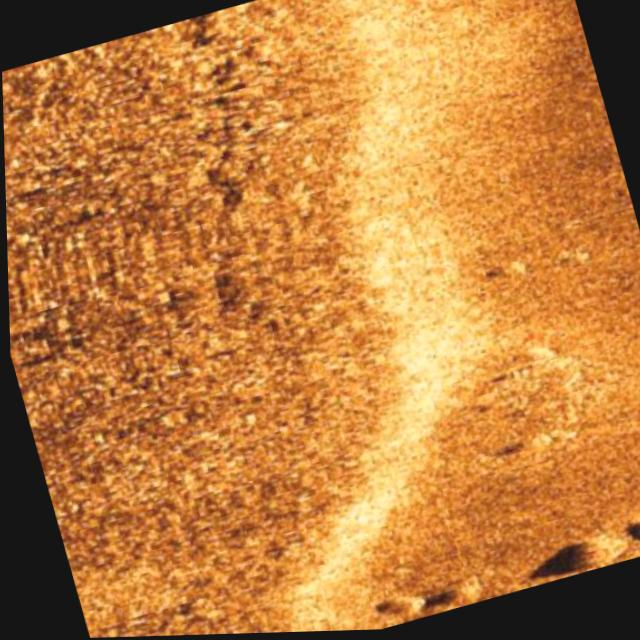bedrock group: (0, 0, 459, 640)
